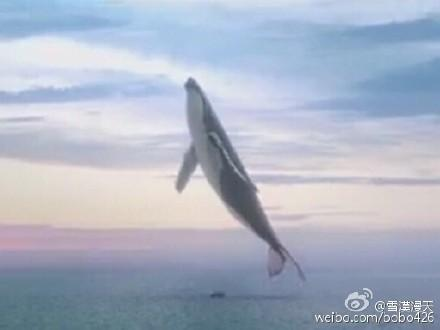fish: (172, 75, 308, 281)
